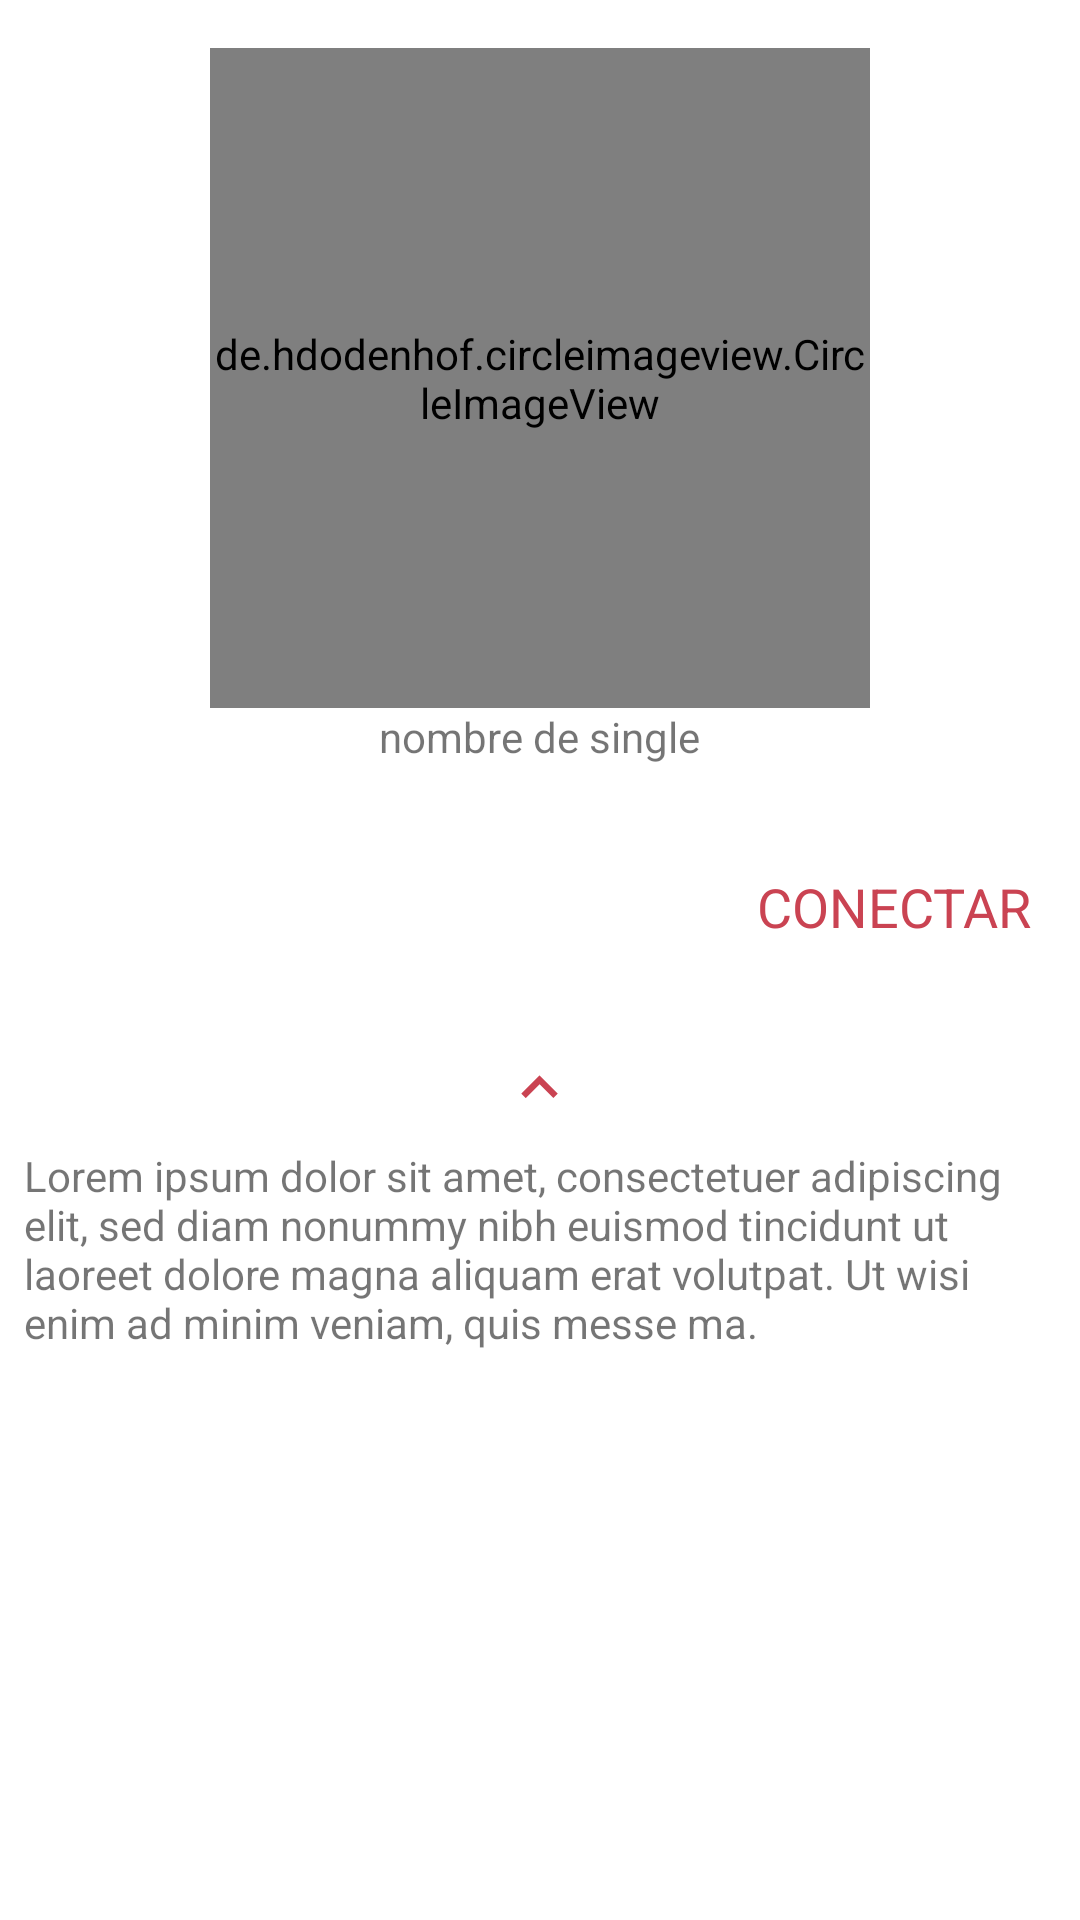

Where to tap for icons on this 1080w x 1920h app screen, as [x,y]:
swipe up: [539,1086]
